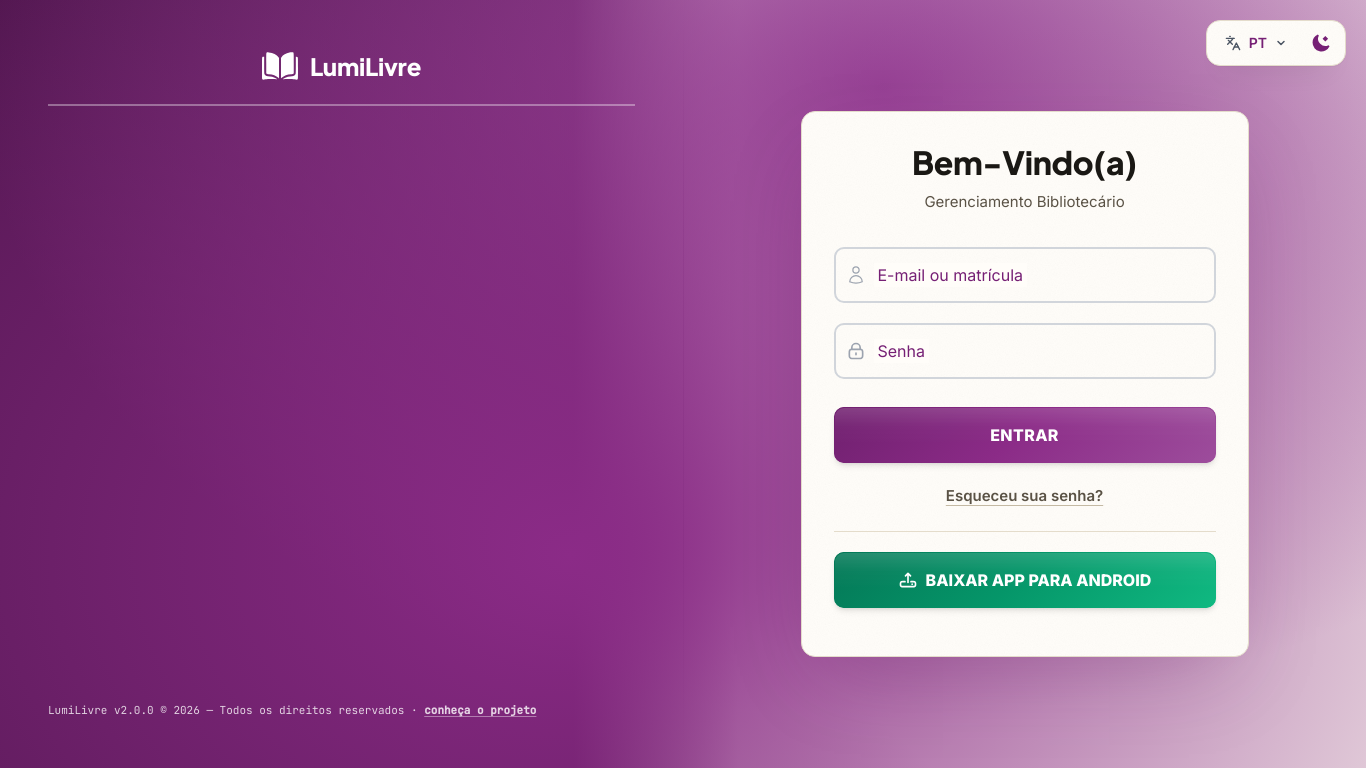
Test case: Página: Login › deve exibir erro ao falhar no login
The width and height of the screenshot is (1366, 768).
Type "errado@lumilivre.com" into the field labelled "E-mail ou matrícula" at (1024, 275), box [834,247,1216,303]
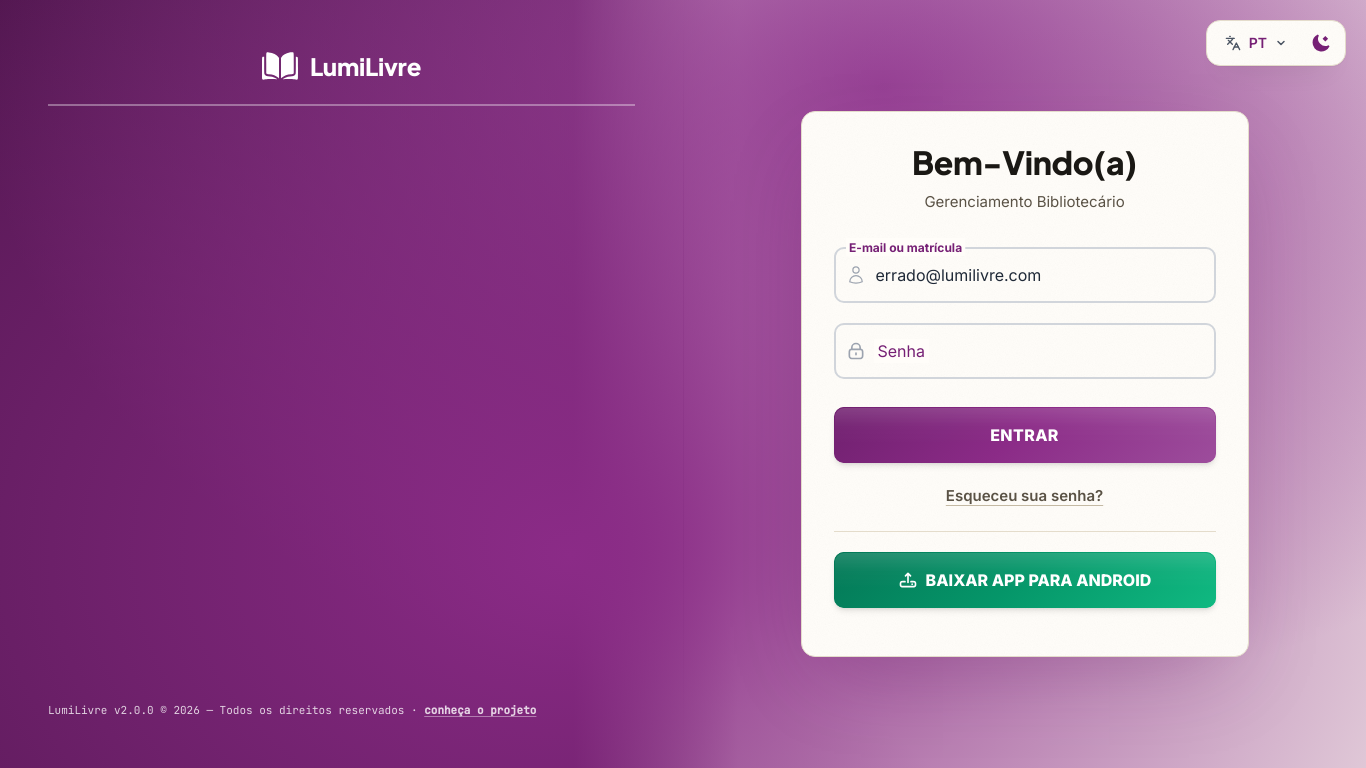
Type "senhaerrada" into the password field labelled "Senha" at (1024, 351), box [834,323,1216,379]
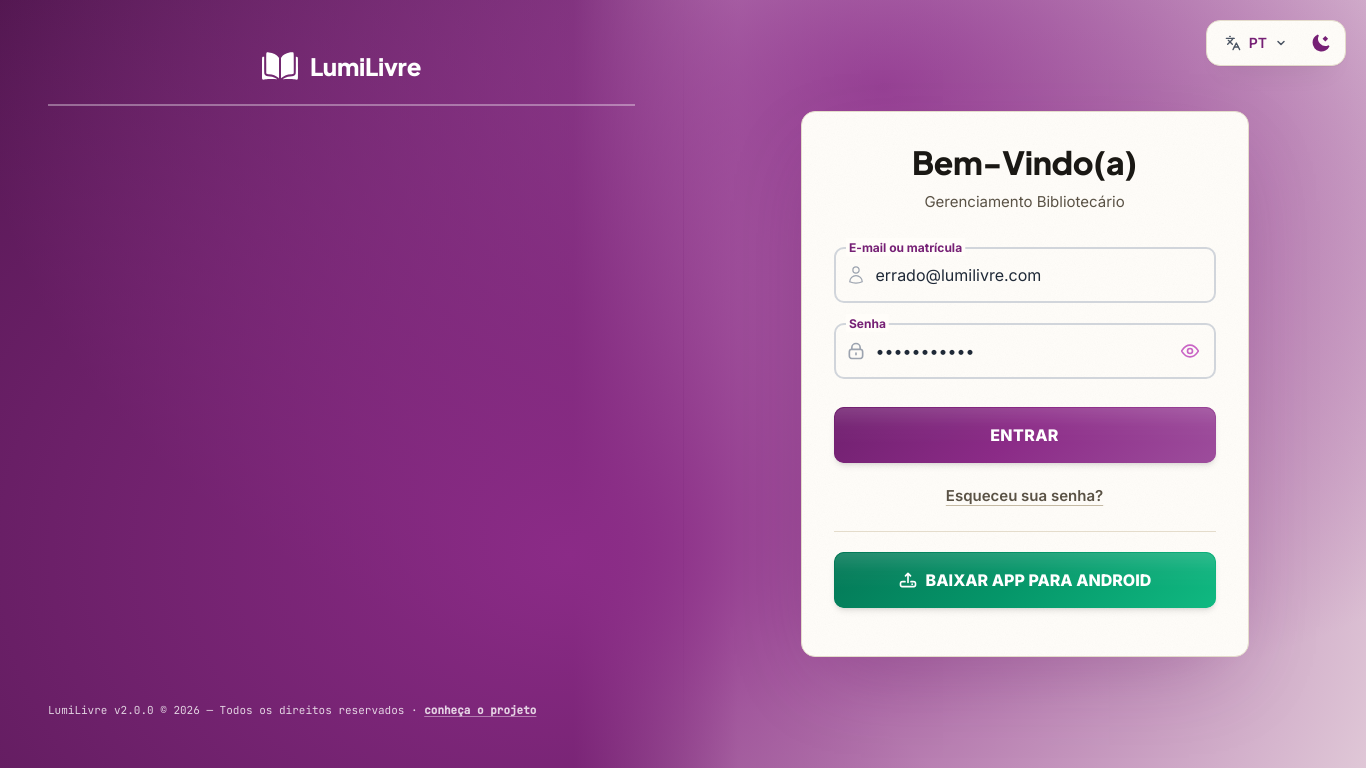
Click the button "ENTRAR" at (1024, 435), box [834,407,1216,463]
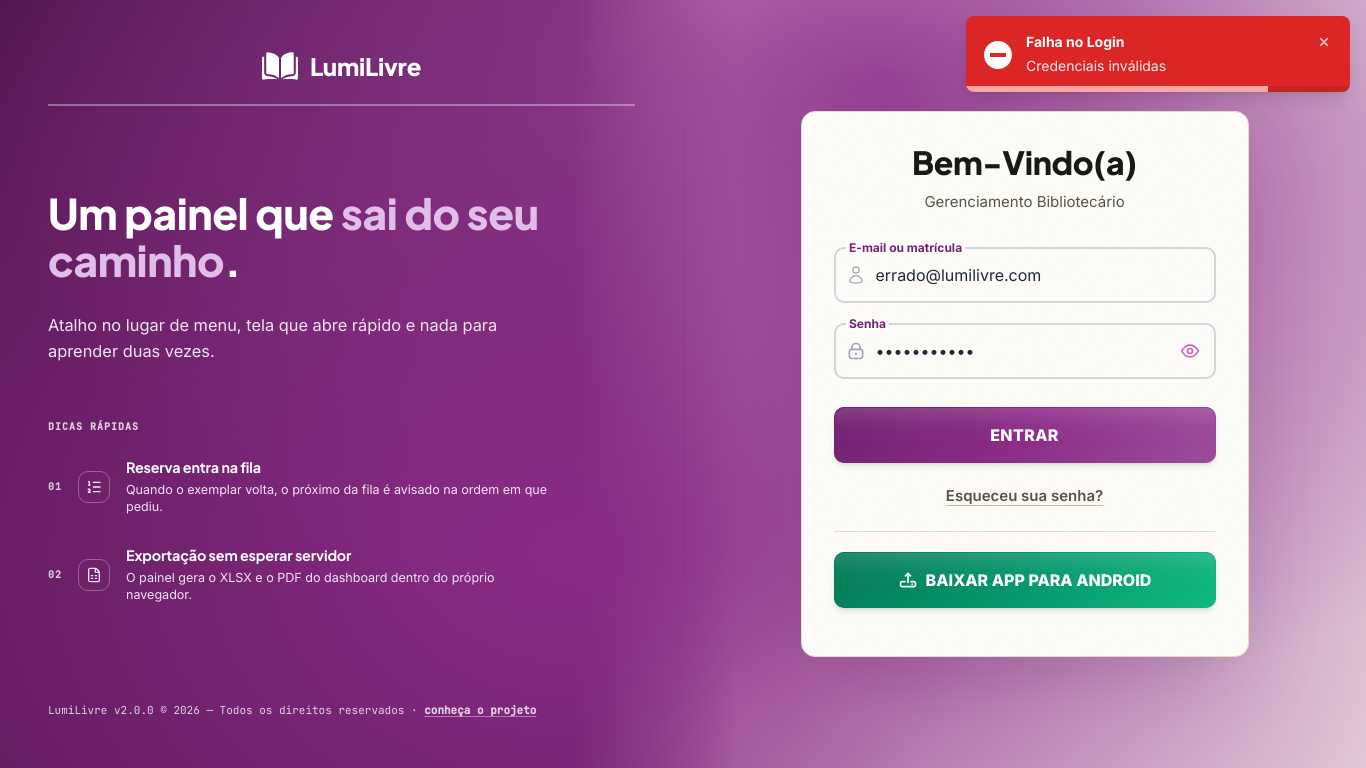
Result: the text "Falha no Login" is shown at [1026,33,1124,50]
